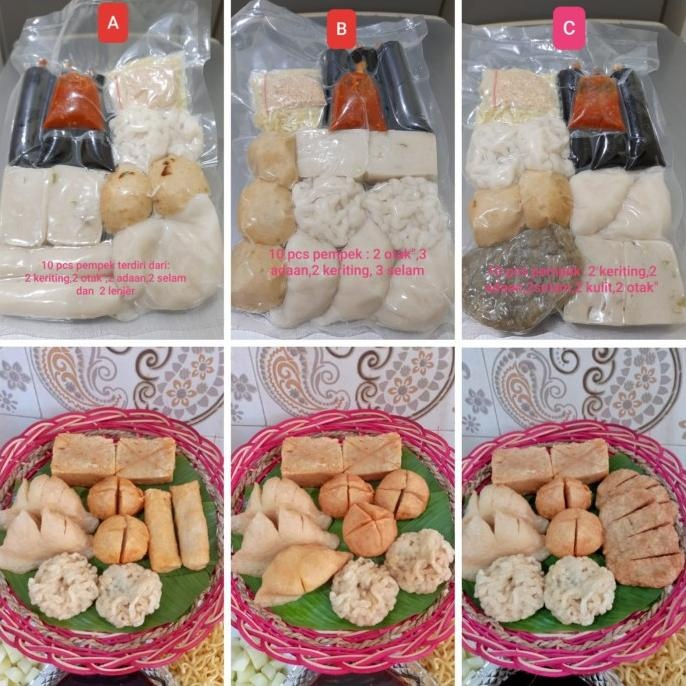pempek: (230, 433, 454, 627), (2, 430, 210, 630), (463, 445, 686, 628)
